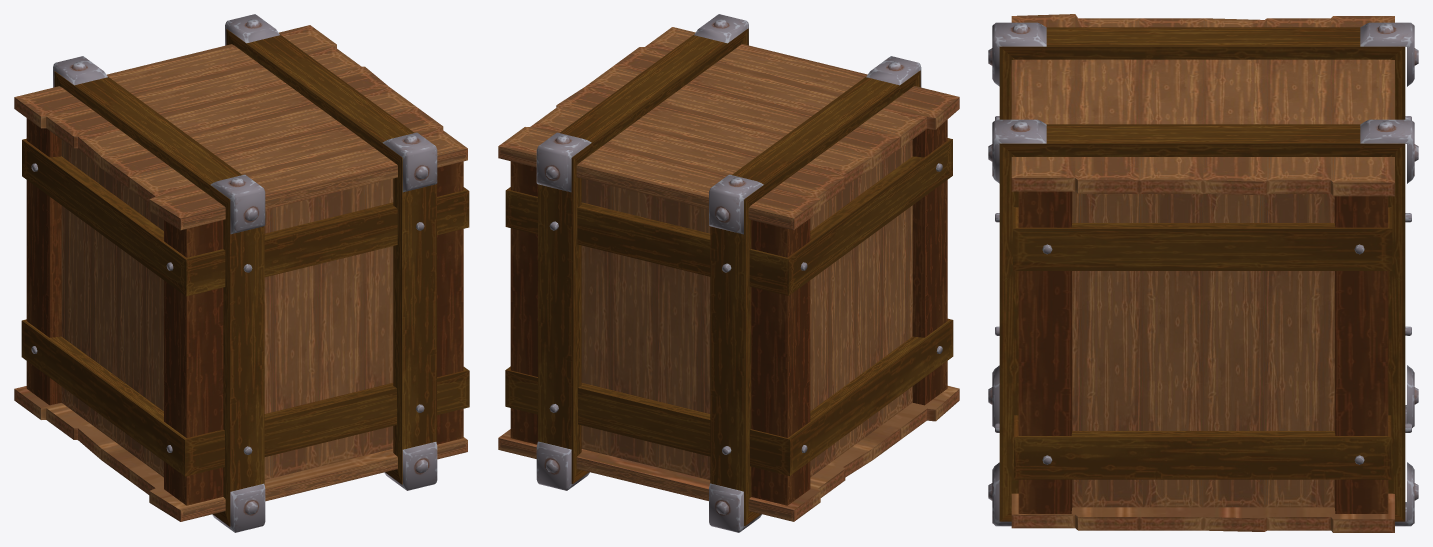
The model's file is crate_wooden.gltf.
3 views of the same model, side by side, from view 1: azimuth 30°, elevation 25°; view 2: azimuth 150°, elevation 25°; view 3: azimuth 270°, elevation 25° (orthographic). The views are drawn at different scales.
Visible parts, largest first — view 1: Crate_Wooden; view 2: Crate_Wooden; view 3: Crate_Wooden.
Part boxes in pixels (box(x1,y1,x2,y2)): Crate_Wooden: box(14, 14, 469, 532); Crate_Wooden: box(498, 14, 959, 532); Crate_Wooden: box(988, 14, 1418, 532).
Bounding box in the file's own units: 0.8423 × 0.9309 × 0.9083.
Materials: 2 (2 with a texture image).
